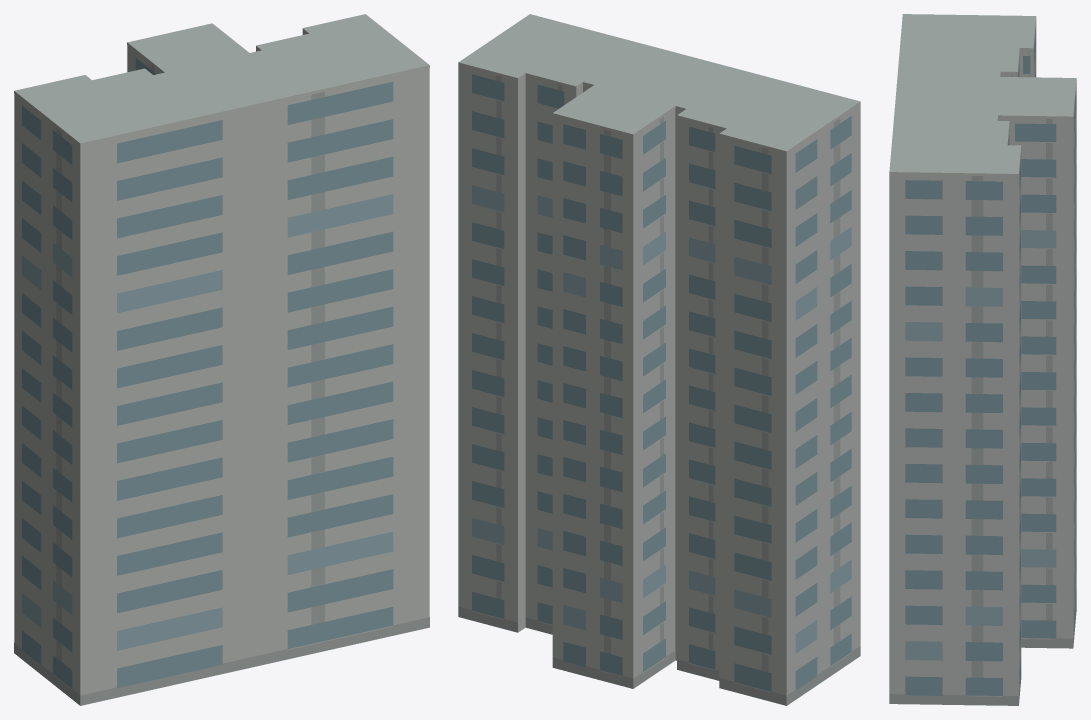
File: residential-99365819-f570-4489-91e7-0469c0e2067e.glb
3 views of the same model, side by side, from view 1: azimuth 30°, elevation 25°; view 2: azimuth 150°, elevation 25°; view 3: azimuth 270°, elevation 25° (orthographic). The views are drawn at different scales.
Visible parts, largest first — view 1: residential-99365819-f570-4489-91e7-0469c0e2067e.tmp; view 2: residential-99365819-f570-4489-91e7-0469c0e2067e.tmp; view 3: residential-99365819-f570-4489-91e7-0469c0e2067e.tmp.
Part boxes in pixels (x1,y1,x2,y2): residential-99365819-f570-4489-91e7-0469c0e2067e.tmp: (14, 14, 429, 705); residential-99365819-f570-4489-91e7-0469c0e2067e.tmp: (458, 14, 860, 705); residential-99365819-f570-4489-91e7-0469c0e2067e.tmp: (889, 14, 1076, 705).
Size of the model in its own units: 30.97 by 48 by 15.32.
